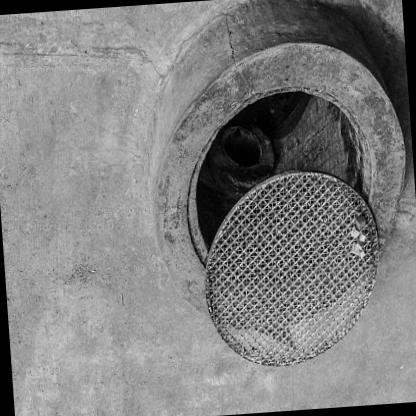manholes: (172, 60, 406, 375)
